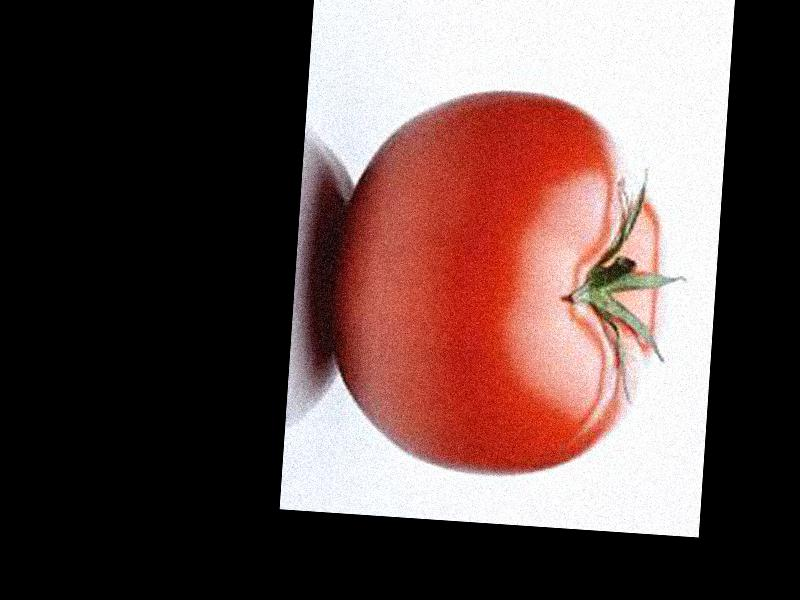Tomato: (325, 82, 675, 486)
